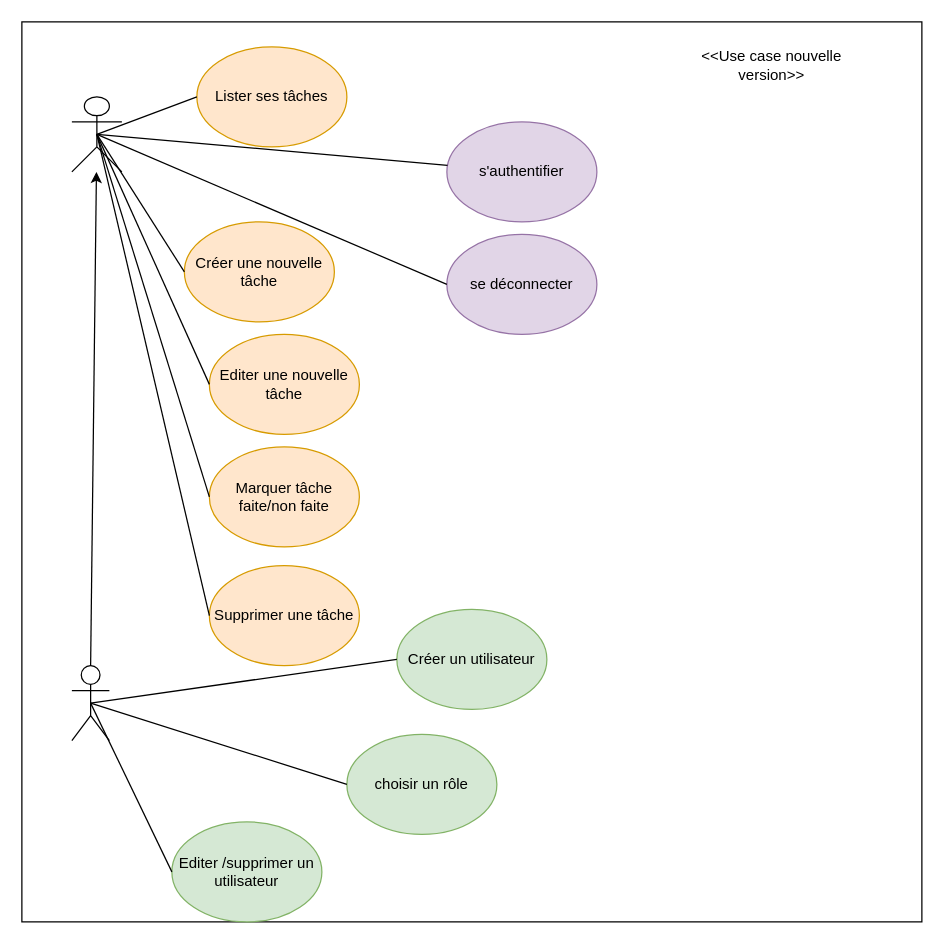
The diagram is 944 pixels wide and 944 high, and some of its shapes have lost their labels. The shapes that lost their labels are listed below. From the top down, each one's box as (x1, y1, x2, y2) in pixels, then its label:
(71, 96, 122, 172): Utilisateur
(71, 664, 109, 741): Administrateur
